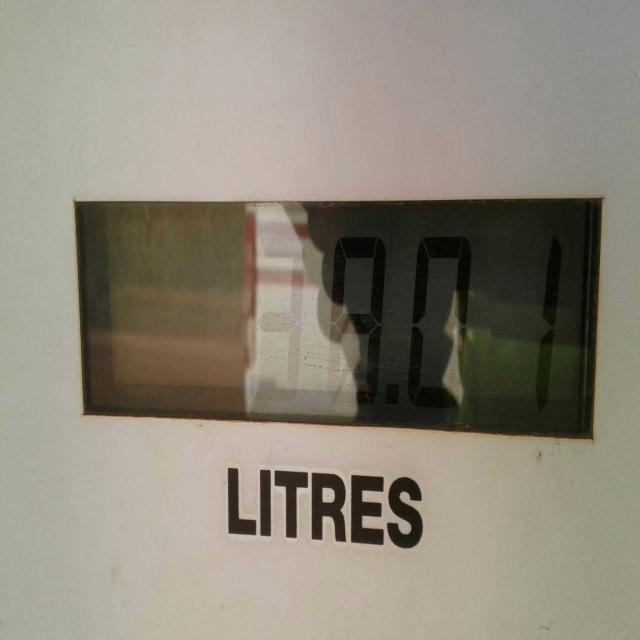.: (377, 381, 403, 412)
0: (408, 232, 472, 414)
1: (532, 237, 564, 419)
3: (249, 238, 316, 402)
8: (326, 232, 385, 409)
screen: (72, 195, 598, 443)
